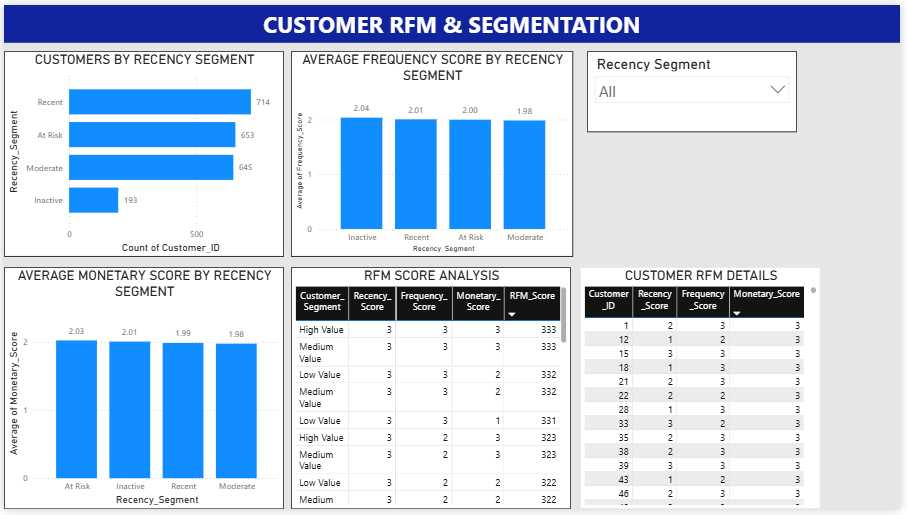

What the dashboard file says about the page in this screenshot:
{"tool":"powerbi","page":{"name":"CUSTOMER RFM & SEGMENTATION","canvas":[1280,720],"ordinal":4},"visuals":[{"type":"textbox","box":[0,0,1280,53.8],"z":1},{"type":"clusteredColumnChart","title":"AVERAGE MONETARY SCORE BY RECENCY SEGMENT","fields":{"Category":["Food_Marketing_Analytics.Recency_Segment"],"Y":["Avg(Food_Marketing_Analytics.Monetary_Score)"]},"box":[0,374.3,400,345.7],"z":3},{"type":"clusteredBarChart","title":"CUSTOMERS BY RECENCY SEGMENT","fields":{"Category":["Food_Marketing_Analytics.Recency_Segment"],"Y":["CountNonNull(Food_Marketing_Analytics.Customer_ID)"]},"box":[0,65.7,400,294.3],"z":4},{"type":"clusteredColumnChart","title":"AVERAGE FREQUENCY SCORE BY RECENCY SEGMENT","fields":{"Category":["Food_Marketing_Analytics.Recency_Segment"],"Y":["Avg(Food_Marketing_Analytics.Frequency_Score)"]},"box":[410,65.7,402.9,294.3],"z":5},{"type":"tableEx","title":"RFM SCORE ANALYSIS","fields":{"Values":["Food_Marketing_Analytics.Customer_Segment","Food_Marketing_Analytics.Recency_Score","Food_Marketing_Analytics.Frequency_Score","Food_Marketing_Analytics.Monetary_Score","Food_Marketing_Analytics.RFM_Score"]},"box":[410,374.3,400,345.7],"z":6},{"type":"tableEx","title":"CUSTOMER RFM DETAILS","fields":{"Values":["Food_Marketing_Analytics.Customer_ID","Food_Marketing_Analytics.Recency_Score","Food_Marketing_Analytics.Frequency_Score","Food_Marketing_Analytics.Monetary_Score"]},"box":[822.9,374.3,344.3,345.7],"z":7},{"type":"slicer","fields":{"Values":["Food_Marketing_Analytics.Recency_Segment"]},"box":[832.9,65.7,300,115.7],"z":8}]}

Visuals, with their boxes in screenshot pixels (x1, y1, x2, y2), scaled from the page's 1280x720 canvas onto the 907x515 screenshot:
textbox: bbox(0, 0, 906, 38)
"AVERAGE MONETARY SCORE BY RECENCY SEGMENT" clusteredColumnChart: bbox(0, 268, 283, 514)
"CUSTOMERS BY RECENCY SEGMENT" clusteredBarChart: bbox(0, 47, 283, 258)
"AVERAGE FREQUENCY SCORE BY RECENCY SEGMENT" clusteredColumnChart: bbox(291, 47, 576, 258)
"RFM SCORE ANALYSIS" tableEx: bbox(291, 268, 574, 514)
"CUSTOMER RFM DETAILS" tableEx: bbox(583, 268, 827, 514)
slicer - Food_Marketing_Analytics.Recency_Segment: bbox(590, 47, 803, 130)
